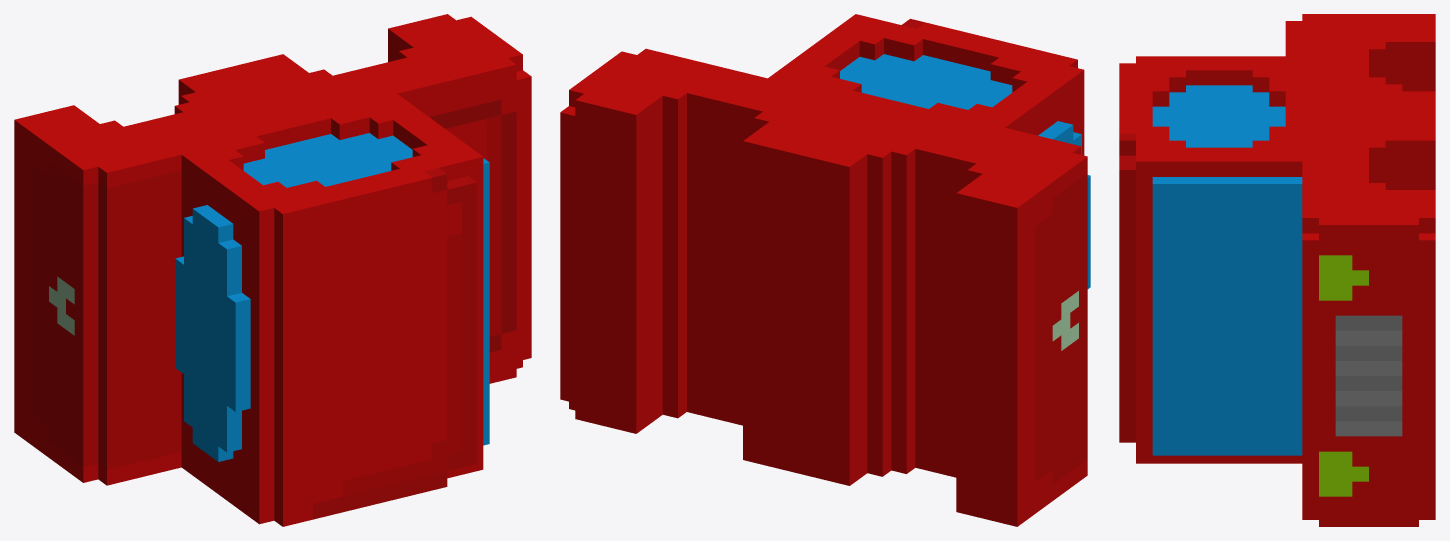
The model's file is first_car.gltf.
3 renders of one model, left to right at view 1: azimuth 30°, elevation 25°; view 2: azimuth 150°, elevation 25°; view 3: azimuth 270°, elevation 25°, orthographic. The views are drawn at different scales.
Parts seen in each view (by area): view 1: model; view 2: model; view 3: model.
Boxes of the visible parts, x1,y1,x2,y2 form: model: (14,14,531,526); model: (560,14,1090,526); model: (1119,14,1435,526).
Size of the model in its own units: 3 by 2 by 1.9.
